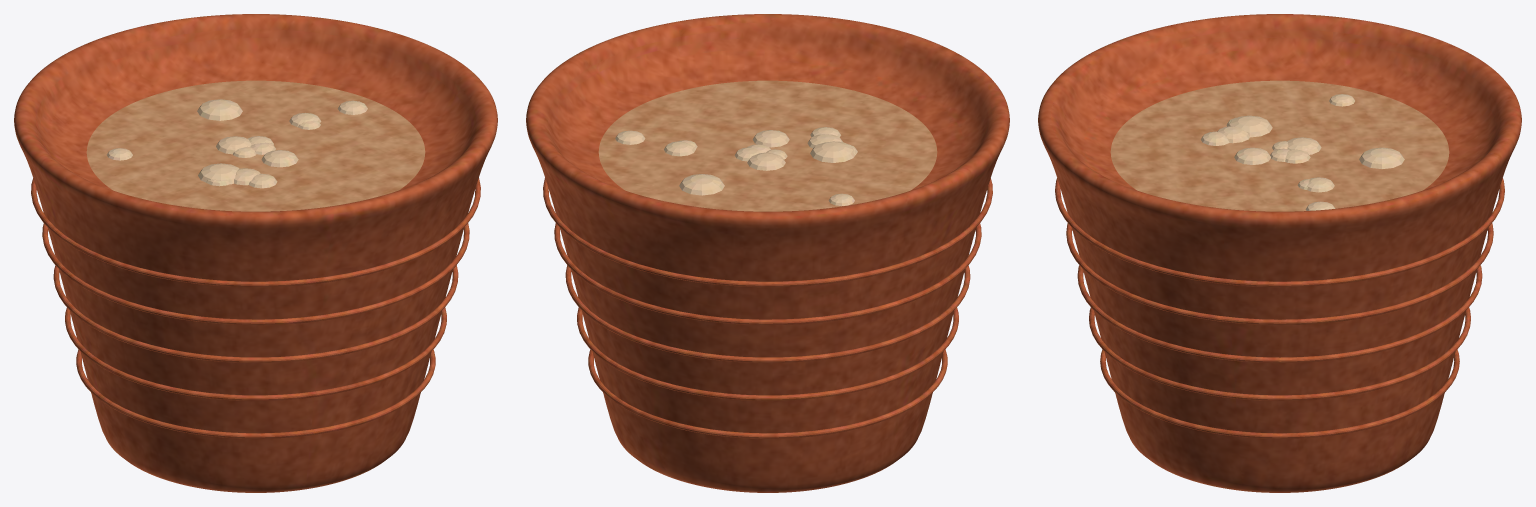
The model's file is kulhad.glb.
3 renders of one model, left to right at view 1: azimuth 30°, elevation 25°; view 2: azimuth 150°, elevation 25°; view 3: azimuth 270°, elevation 25°, orthographic.
Parts seen in each view (by area): view 1: kulhad; view 2: kulhad; view 3: kulhad.
Boxes of the visible parts, bbox=[...] form: kulhad: bbox=[14, 14, 497, 492]; kulhad: bbox=[526, 14, 1009, 492]; kulhad: bbox=[1038, 14, 1521, 492].
Size of the model in its own units: 2.06 by 1.51 by 2.06.
1 material, 1 textured.
